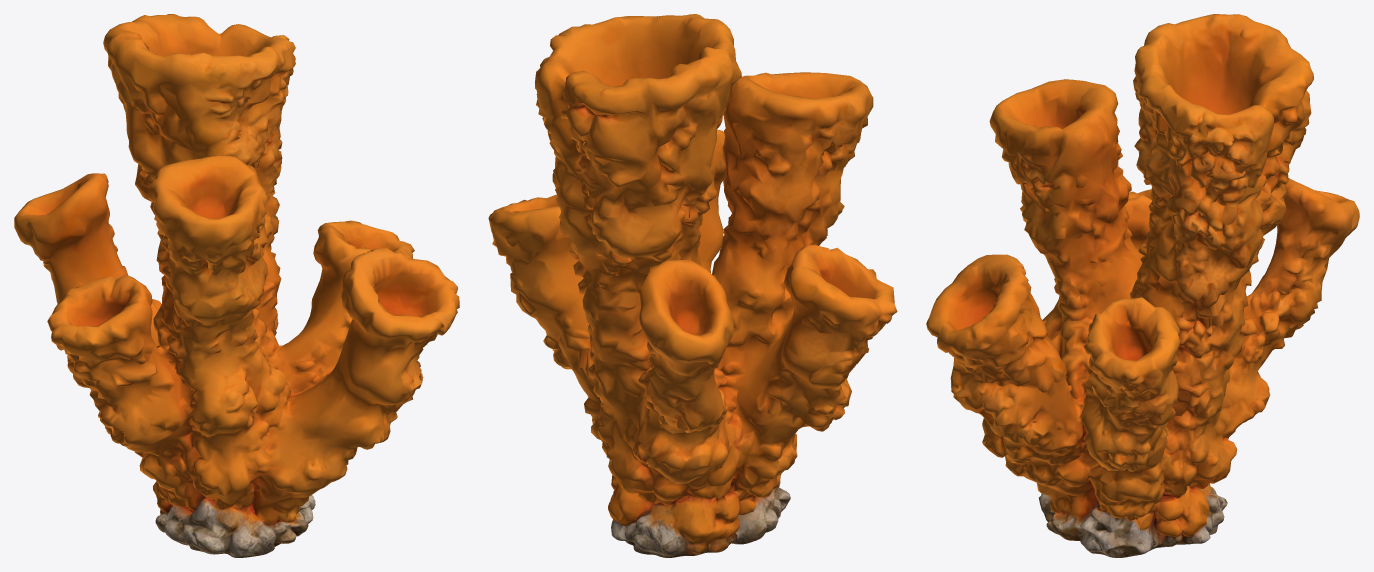
Rendered from sponge_tube_orange.glb.
3 views of the same model, side by side, from view 1: azimuth 30°, elevation 25°; view 2: azimuth 150°, elevation 25°; view 3: azimuth 270°, elevation 25° (orthographic). The views are drawn at different scales.
Visible parts, largest first — view 1: tripo_node_56f177f7-465f-4a1c-98ea-e5307f54a56a; view 2: tripo_node_56f177f7-465f-4a1c-98ea-e5307f54a56a; view 3: tripo_node_56f177f7-465f-4a1c-98ea-e5307f54a56a.
Boxes of the visible parts, bbox=[...] form: tripo_node_56f177f7-465f-4a1c-98ea-e5307f54a56a: bbox=[14, 14, 459, 557]; tripo_node_56f177f7-465f-4a1c-98ea-e5307f54a56a: bbox=[488, 14, 897, 557]; tripo_node_56f177f7-465f-4a1c-98ea-e5307f54a56a: bbox=[926, 14, 1359, 557].
Bounding box in the file's own units: 0.8063 × 1 × 0.8111.
Materials: 1 (1 with a texture image).
